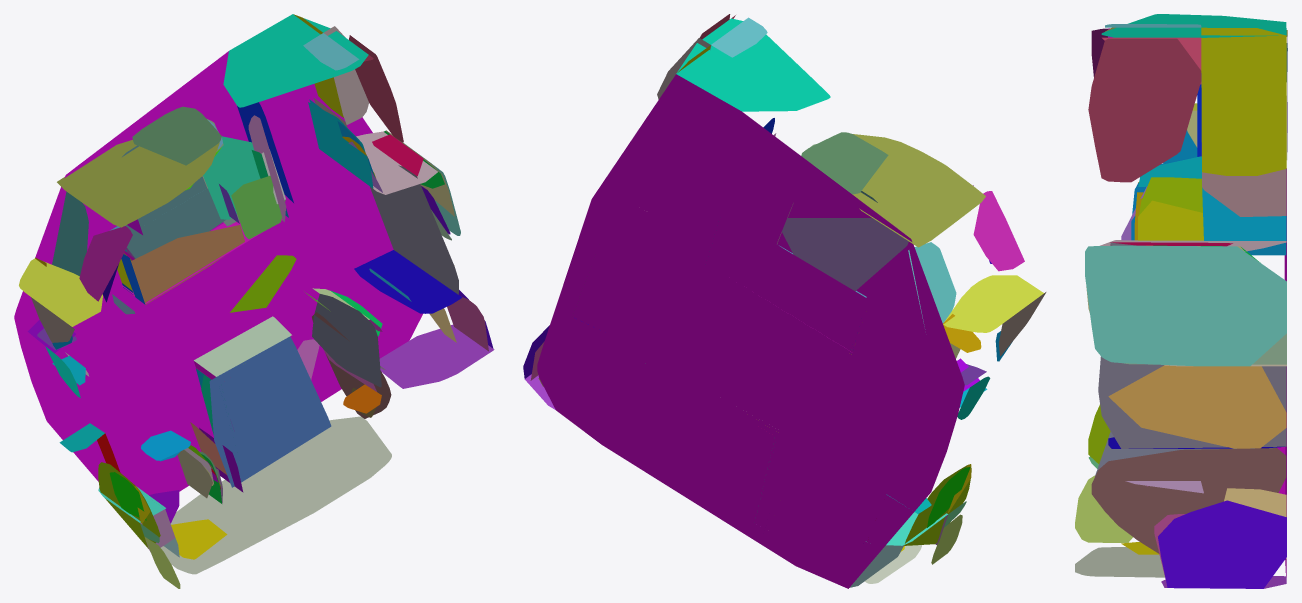
The model's file is planarrecon_scene0000.glb.
The picture shows the model from 3 angles, left to right: view 1: azimuth 30°, elevation 25°; view 2: azimuth 150°, elevation 25°; view 3: azimuth 270°, elevation 25°; orthographic projection. The views are drawn at different scales.
Bounding box in the file's own units: 8.26 × 8.58 × 2.57.
